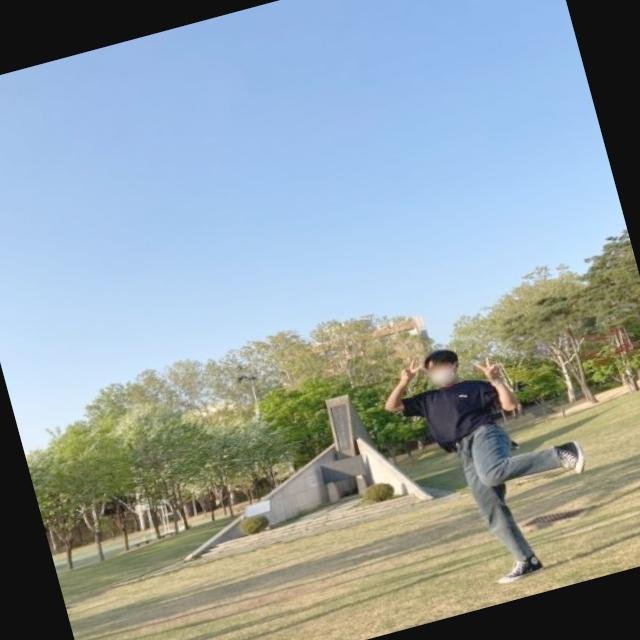denimpants: (452, 407, 584, 569)
shortsleeve: (396, 368, 509, 460)
